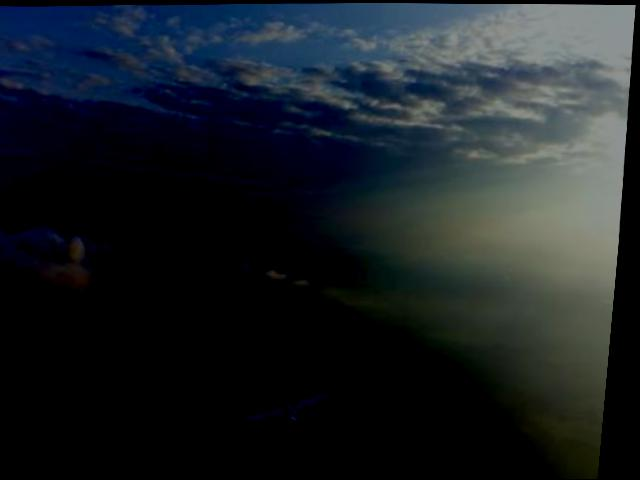uav: (247, 381, 347, 435)
